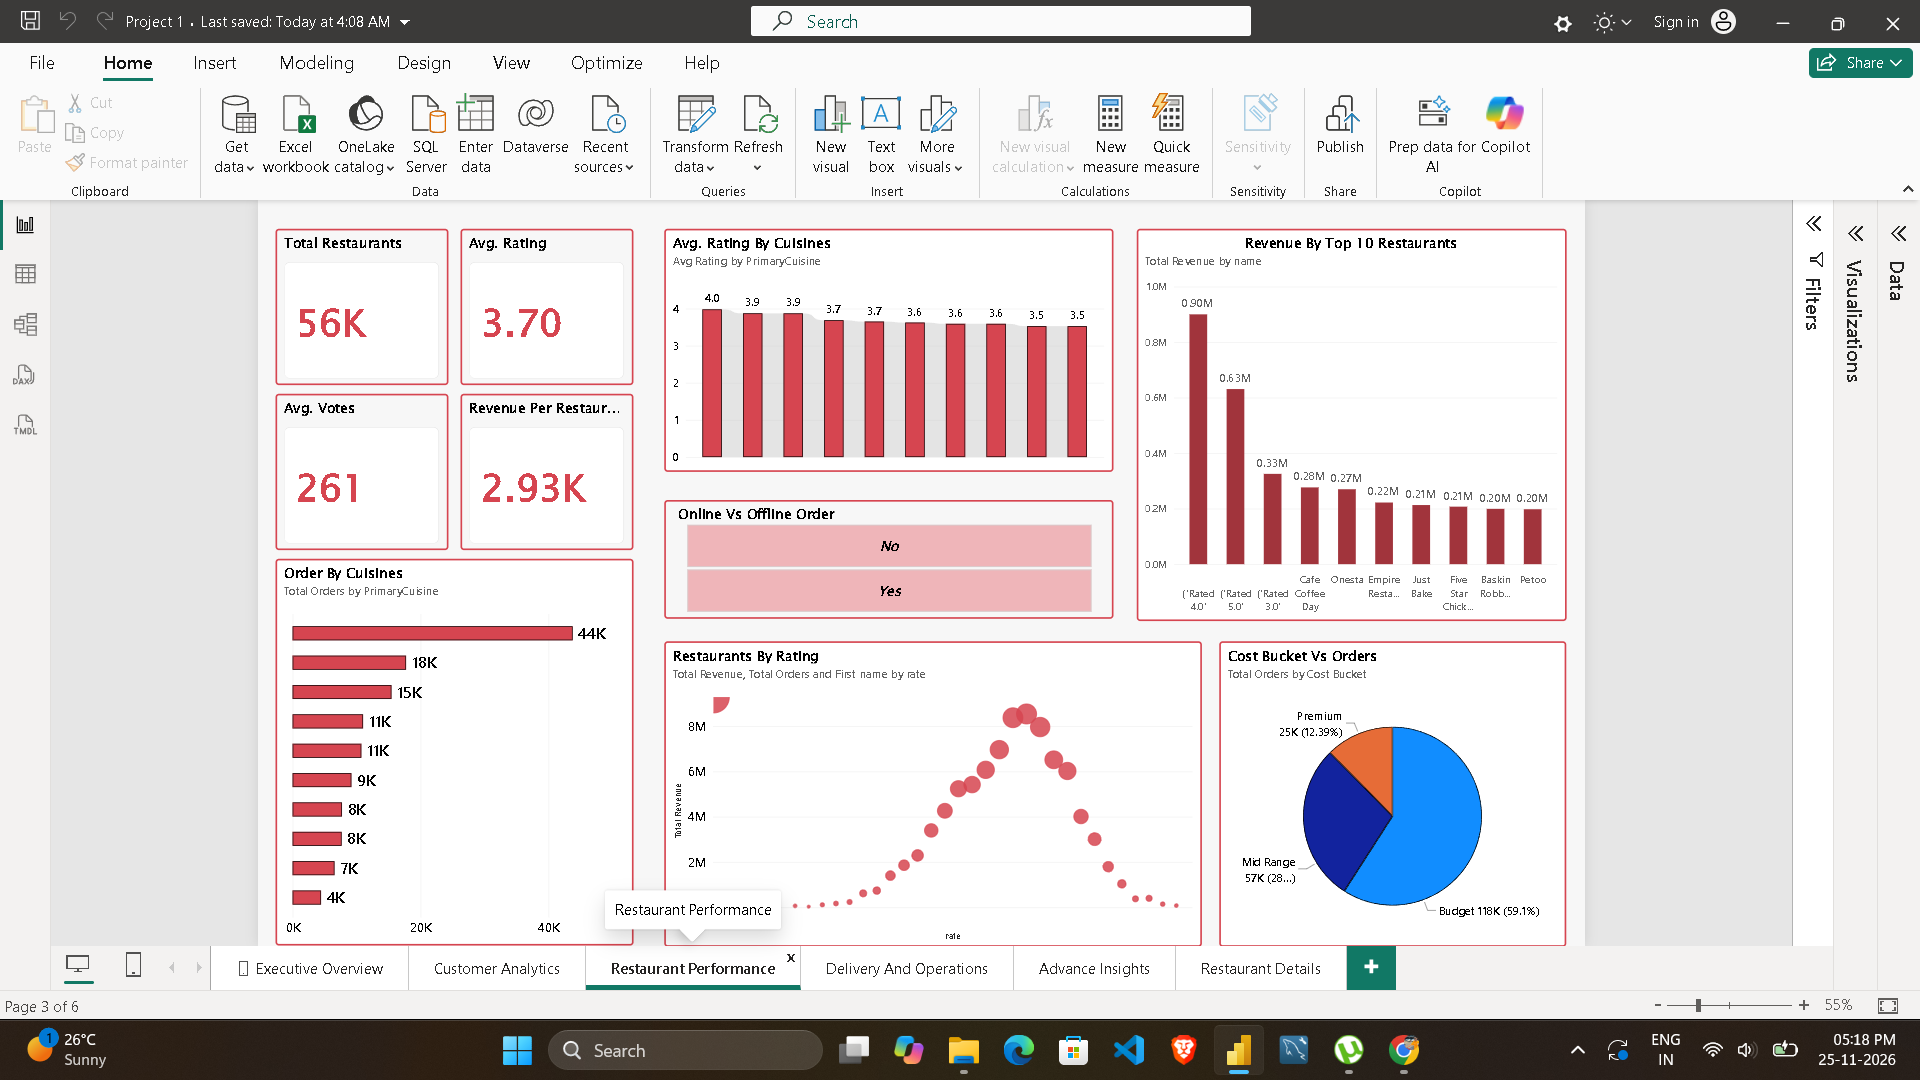

The dashboard page shown, as its layout file describes it:
{"tool":"powerbi","page":{"name":"Restaurant Performance","canvas":[1920,1080],"ordinal":2},"visuals":[{"type":"cardVisual","title":"Total Restaurants","fields":{"Data":["Orders.Total Restaurants"]},"box":[26,42,250,226],"z":0},{"type":"cardVisual","title":"Avg. Votes","fields":{"Data":["Orders.Avg Votes"]},"box":[26,280,250,226],"z":1000},{"type":"cardVisual","title":"Avg. Rating","fields":{"Data":["Orders.Avg Rating"]},"box":[294,42,250,226],"z":2000},{"type":"cardVisual","title":"Revenue Per Restaurant","fields":{"Data":["Orders.Revenue per Restaurant"]},"box":[294,280,250,226],"z":3000},{"type":"barChart","title":"Order By Cuisines","fields":{"Category":["Restaurants.PrimaryCuisine"],"Y":["Orders.Total Orders"]},"box":[26,520,518,560],"z":4000},{"type":"columnChart","title":"Revenue By Top 10 Restaurants","fields":{"Category":["Restaurants.name"],"Y":["Orders.Total Revenue"]},"box":[1272,42,622,568],"z":5000},{"type":"columnChart","title":"Avg. Rating By Cuisines","fields":{"Category":["Restaurants.PrimaryCuisine"],"Y":["Orders.Avg Rating"]},"box":[588,42,650,352],"z":6000},{"type":"scatterChart","title":"Restaurants By Rating","fields":{"Size":["Orders.Total Orders"],"X":["Restaurants.rate"],"Y":["Orders.Total Revenue"]},"box":[588,638,778,442],"z":7000},{"type":"pieChart","title":"Cost Bucket Vs Orders","fields":{"Category":["Restaurants.Cost Bucket"],"Y":["Orders.Total Orders"]},"box":[1392,638,502,442],"z":8000},{"type":"slicer","fields":{"Values":["Restaurants.Online.order"]},"box":[588,434,650,172],"z":8001}]}

Visuals, with their boxes on the page's 1920x1080 design canvas (x1, y1, x2, y2). These are canvas units, not pixel positions in the 1920x1080 screenshot, which may show the page scaled, cropped or inside an application window:
"Total Restaurants" cardVisual: [x1=26, y1=42, x2=276, y2=268]
"Avg. Votes" cardVisual: [x1=26, y1=280, x2=276, y2=506]
"Avg. Rating" cardVisual: [x1=294, y1=42, x2=544, y2=268]
"Revenue Per Restaurant" cardVisual: [x1=294, y1=280, x2=544, y2=506]
"Order By Cuisines" barChart: [x1=26, y1=520, x2=544, y2=1080]
"Revenue By Top 10 Restaurants" columnChart: [x1=1272, y1=42, x2=1894, y2=610]
"Avg. Rating By Cuisines" columnChart: [x1=588, y1=42, x2=1238, y2=394]
"Restaurants By Rating" scatterChart: [x1=588, y1=638, x2=1366, y2=1080]
"Cost Bucket Vs Orders" pieChart: [x1=1392, y1=638, x2=1894, y2=1080]
slicer - Restaurants.Online.order: [x1=588, y1=434, x2=1238, y2=606]
